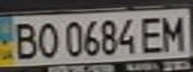0: (63, 18, 84, 57)
4: (115, 15, 142, 55)
6: (81, 17, 103, 57)
8: (100, 16, 121, 56)
B: (6, 19, 42, 61)
E: (136, 14, 166, 54)
M: (157, 12, 190, 53)
O: (33, 19, 60, 60)
